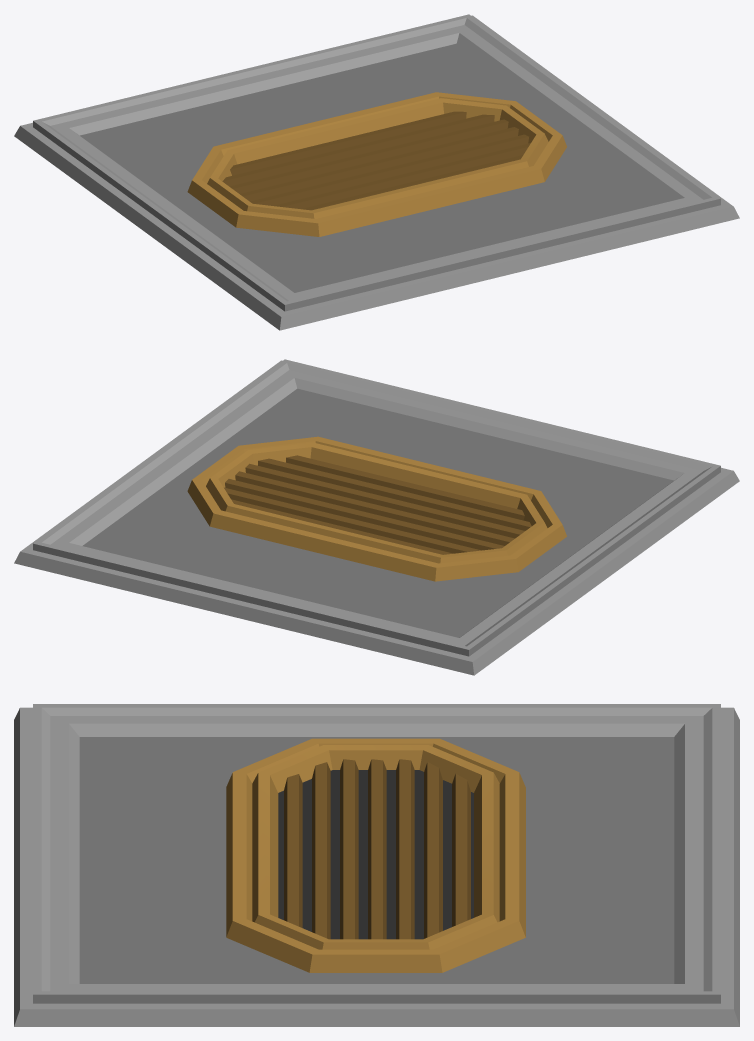
The model's file is RoofTile_OrangeVent.glb.
3 views of the same model, one above another, from view 1: azimuth 30°, elevation 25°; view 2: azimuth 150°, elevation 25°; view 3: azimuth 270°, elevation 25° (orthographic). The views are drawn at different scales.
Visible parts, largest first — view 1: RoofTile_OrangeVent; view 2: RoofTile_OrangeVent; view 3: RoofTile_OrangeVent.
Boxes of the visible parts, x1,y1,x2,y2 form: RoofTile_OrangeVent: (14,14,739,330); RoofTile_OrangeVent: (14,359,739,675); RoofTile_OrangeVent: (14,704,739,1026).
Bounding box in the file's own units: 0.68 × 0.0393 × 0.68.
